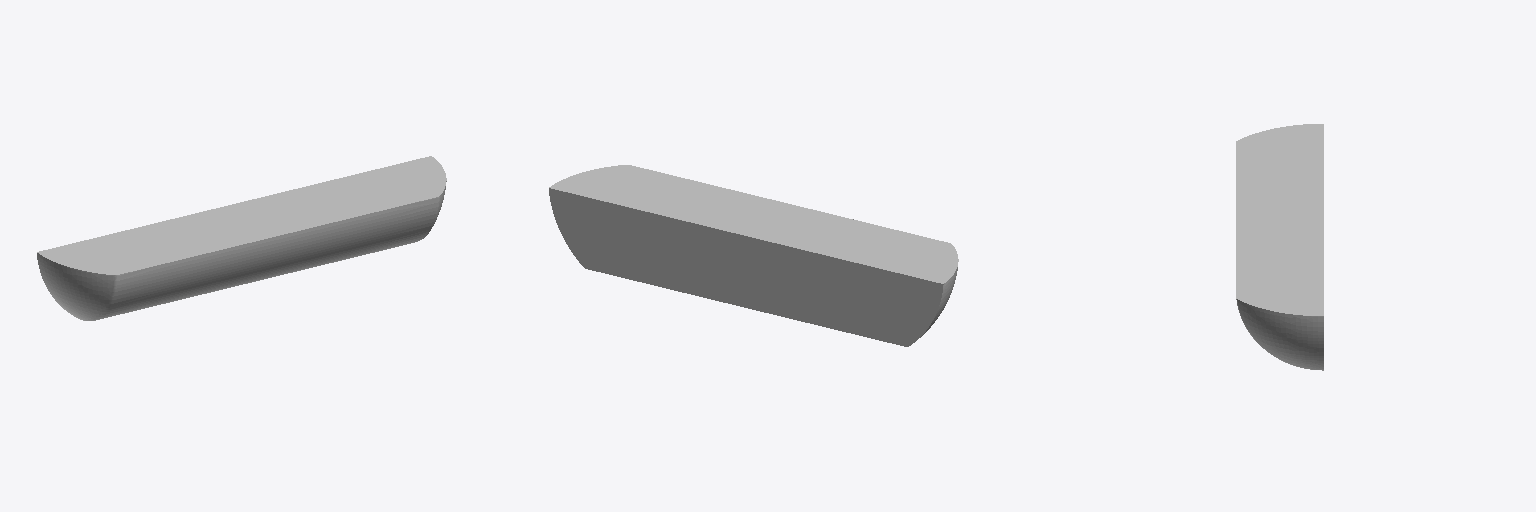
File: Деаэратор_вода.obj
3 views of the same model, side by side, from view 1: azimuth 30°, elevation 25°; view 2: azimuth 150°, elevation 25°; view 3: azimuth 270°, elevation 25° (orthographic).
Parts seen in each view (by area): view 1: Куб; view 2: Куб; view 3: Куб.
Part boxes in pixels (left/top/right/bottom): Куб: left=37, top=156, right=446, bottom=320; Куб: left=549, top=165, right=958, bottom=346; Куб: left=1236, top=124, right=1323, bottom=370.
Bounding box in the file's own units: 10.17 × 1.77 × 1.95.